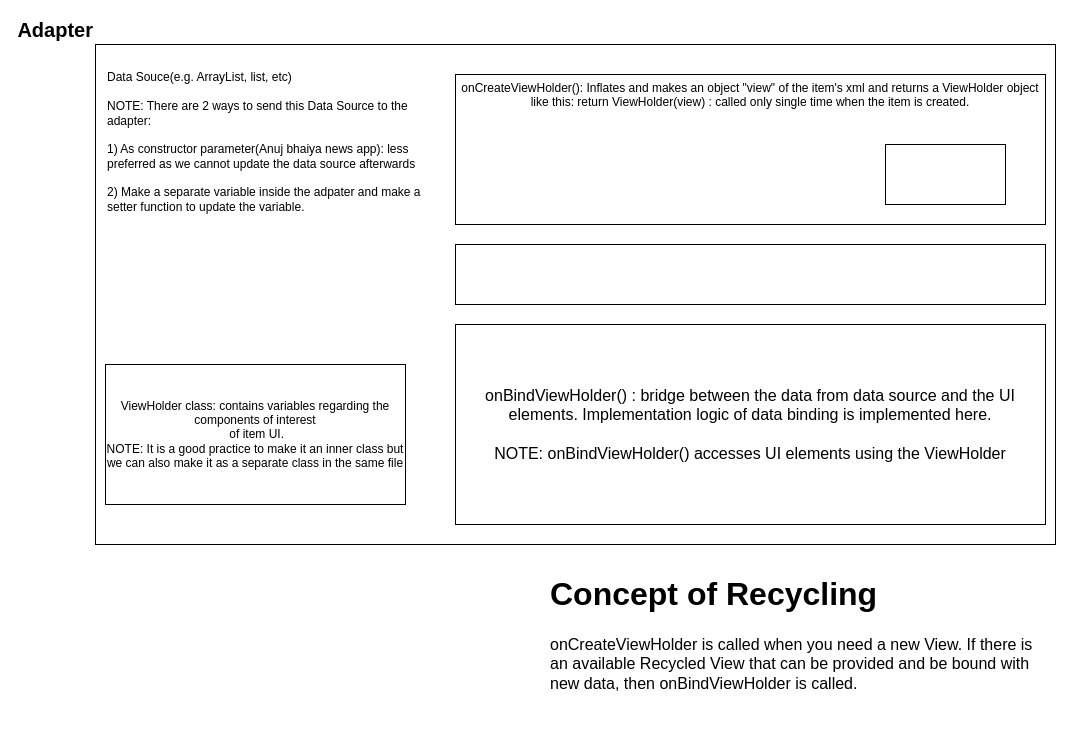
The diagram is 1073 pixels wide and 731 high, and some of its shapes have lost their labels. Here are the shapes that lost their labels. From the top down, the centre of each, then its label:
At (945,174): "Item's xml".
At (750,274): "getItemCount(): notifies the adapter the size of the data source.".
